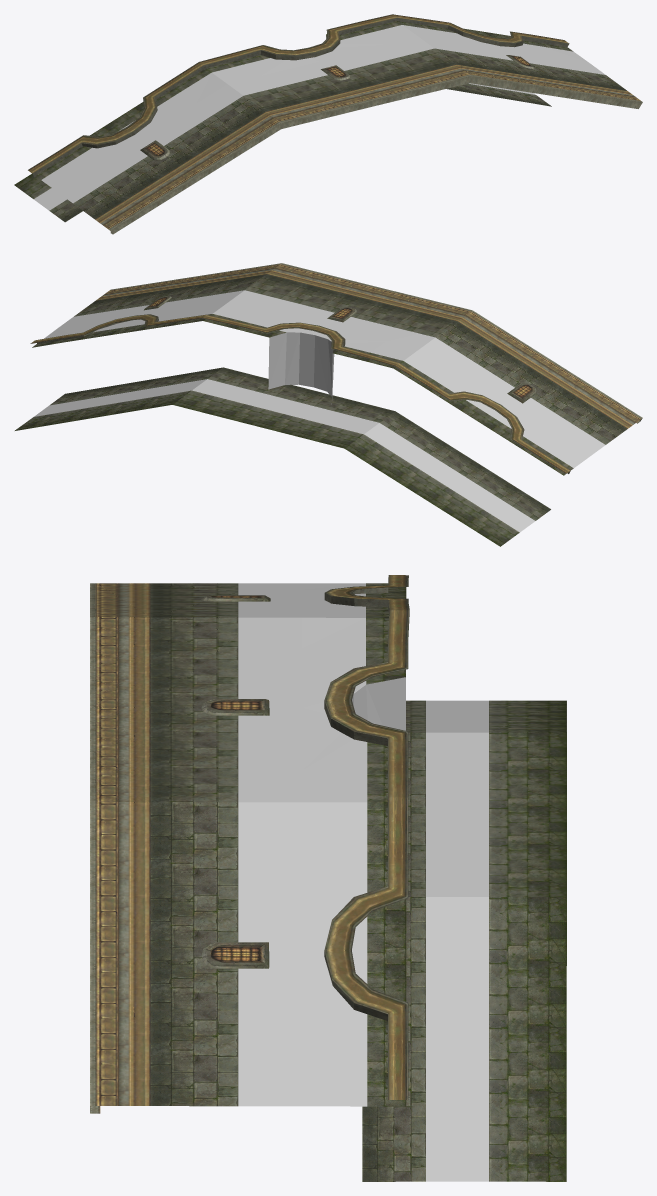
File: zhucheng_yewai_291_shangye_jz_01_e.obj
3 views of the same model, one above another, from view 1: azimuth 30°, elevation 25°; view 2: azimuth 150°, elevation 25°; view 3: azimuth 270°, elevation 25° (orthographic). The views are drawn at different scales.
Parts seen in each view (by area): view 1: zhucheng_yewai_291_shangye_jz_01_a; view 2: zhucheng_yewai_291_shangye_jz_01_a; view 3: zhucheng_yewai_291_shangye_jz_01_a.
Boxes of the visible parts, left/top/right/bottom form: zhucheng_yewai_291_shangye_jz_01_a: left=14, top=14, right=642, bottom=234; zhucheng_yewai_291_shangye_jz_01_a: left=15, top=263, right=642, bottom=546; zhucheng_yewai_291_shangye_jz_01_a: left=90, top=575, right=566, bottom=1181.
Bounding box in the file's own units: 2703 × 583 × 1041.
